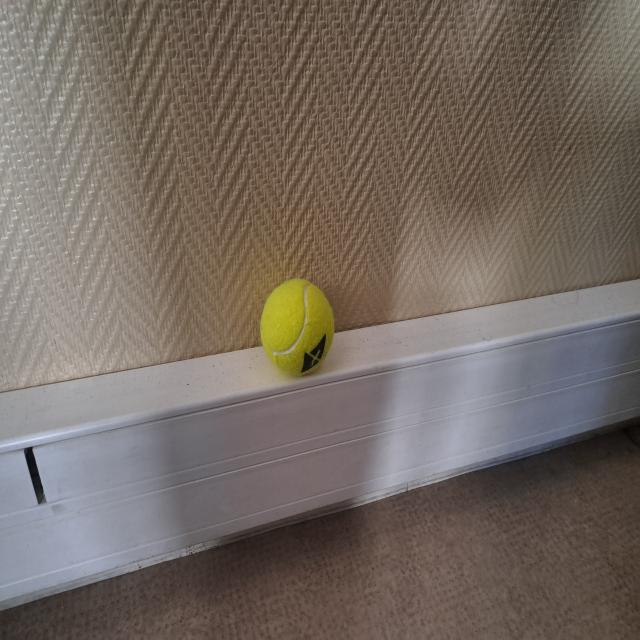tennis: (260, 278, 337, 379)
